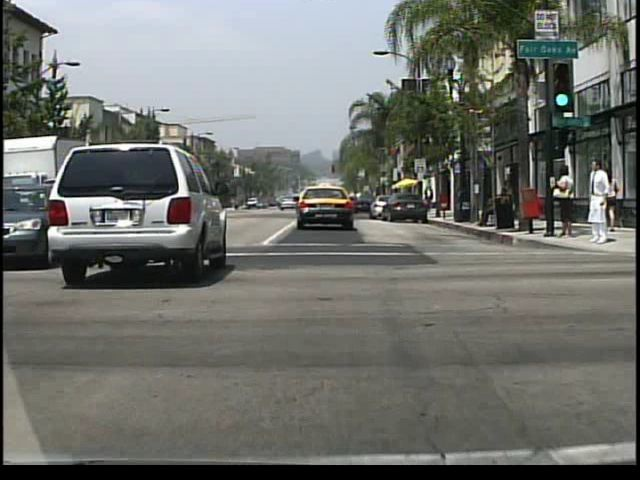person: (584, 159, 610, 245), (550, 162, 573, 238), (600, 169, 622, 235), (472, 190, 499, 230), (495, 179, 508, 225), (423, 185, 434, 208)
